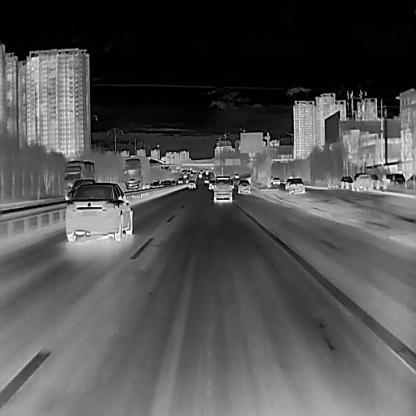car: (64, 181, 133, 240), (65, 159, 95, 200), (123, 155, 149, 189), (213, 175, 231, 202), (351, 173, 378, 190), (381, 172, 405, 188), (288, 177, 304, 193), (337, 175, 352, 188), (237, 179, 250, 193), (187, 180, 196, 188), (272, 176, 280, 184)
